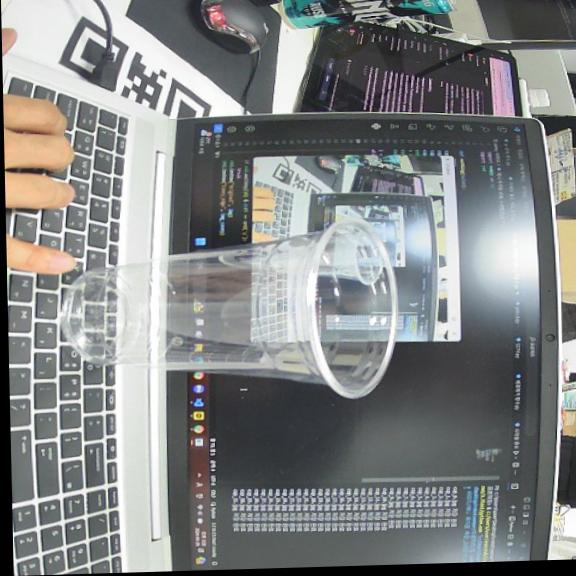Plastik: (62, 219, 396, 398)
